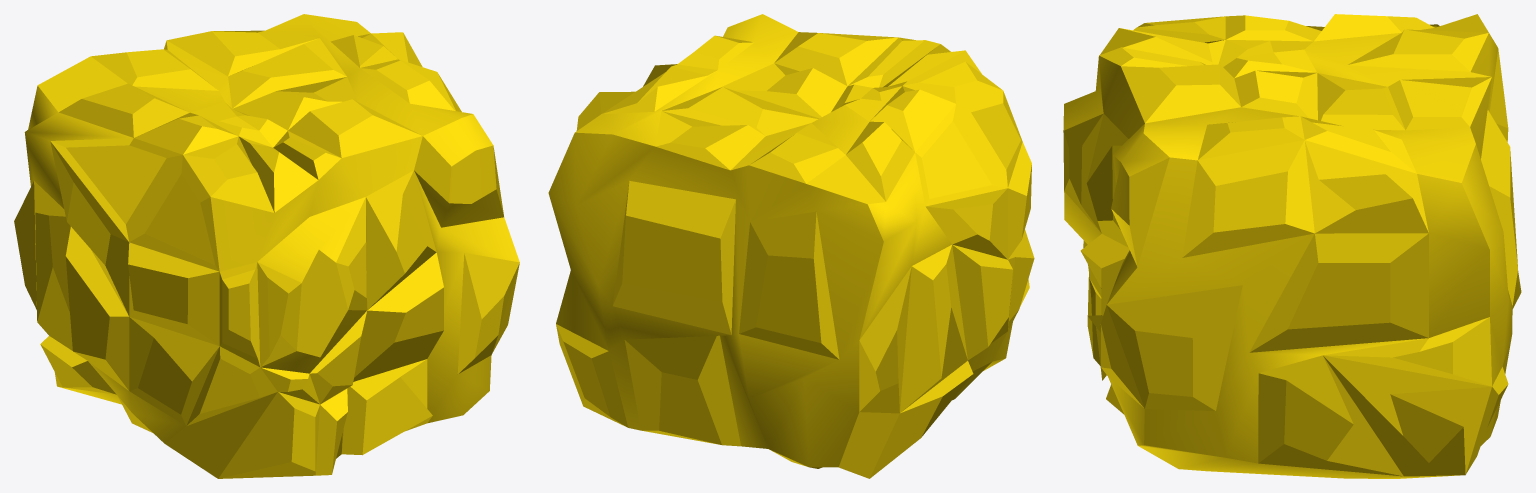
Rendered from GoldCube.fbx.
3 renders of one model, left to right at view 1: azimuth 30°, elevation 25°; view 2: azimuth 150°, elevation 25°; view 3: azimuth 270°, elevation 25°, orthographic. The views are drawn at different scales.
Parts seen in each view (by area): view 1: pCube1; view 2: pCube1; view 3: pCube1.
Boxes of the visible parts, left/top/right/bottom form: pCube1: left=14, top=14, right=519, bottom=478; pCube1: left=548, top=14, right=1034, bottom=478; pCube1: left=1063, top=14, right=1521, bottom=478.
Bounding box in the file's own units: 16.5 × 13.92 × 16.2.
